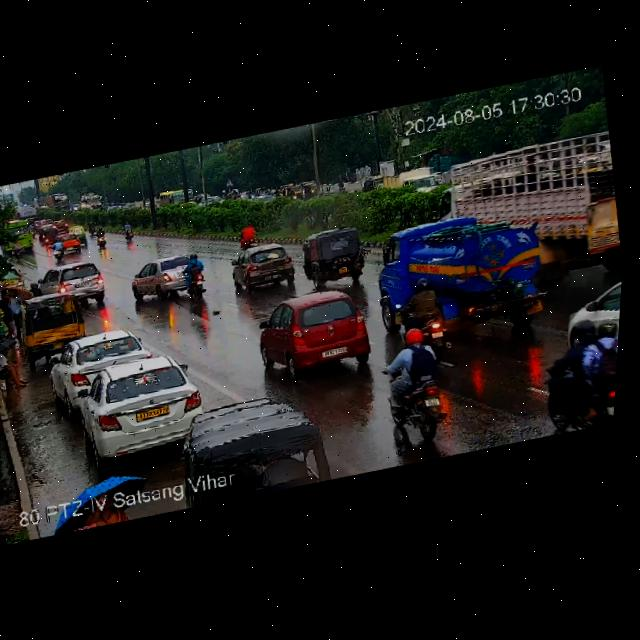car: (176, 370, 341, 506), (73, 350, 209, 463), (255, 282, 383, 387), (47, 323, 151, 401), (14, 287, 96, 357), (556, 279, 622, 355), (124, 247, 205, 305), (31, 256, 112, 314), (303, 224, 370, 286), (226, 239, 297, 294), (62, 232, 83, 258)
motorcycle: (371, 321, 458, 445), (530, 328, 619, 436), (394, 272, 447, 332), (175, 251, 217, 301), (89, 225, 111, 252), (238, 221, 258, 245), (51, 237, 68, 264), (120, 219, 136, 242)
person: (0, 335, 35, 397), (0, 286, 25, 340)
truck: (437, 133, 628, 287), (367, 199, 555, 344)
